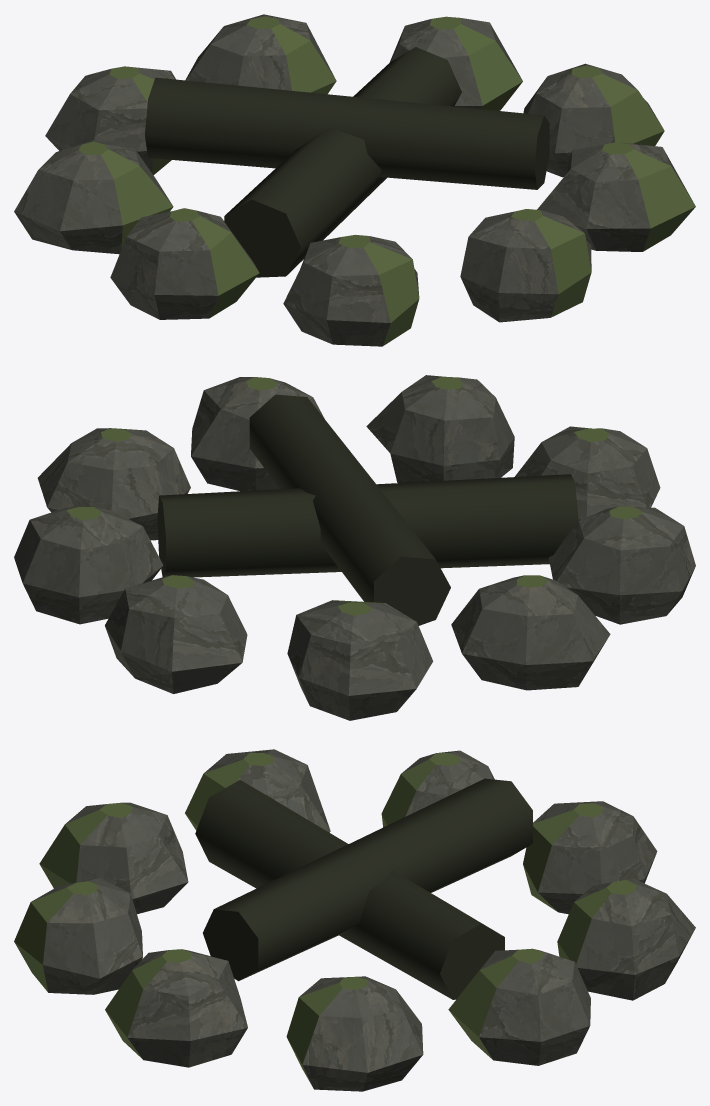
3 renders of one model, top to bottom at view 1: azimuth 30°, elevation 25°; view 2: azimuth 150°, elevation 25°; view 3: azimuth 270°, elevation 25°, orthographic. The views are drawn at different scales.
Visible parts, largest first — view 1: woodland-abandoned-camp · evaluated preview mesh; view 2: woodland-abandoned-camp · evaluated preview mesh; view 3: woodland-abandoned-camp · evaluated preview mesh.
Part boxes in pixels (bbox=[...]): woodland-abandoned-camp · evaluated preview mesh: bbox=[14, 14, 695, 346]; woodland-abandoned-camp · evaluated preview mesh: bbox=[14, 375, 695, 720]; woodland-abandoned-camp · evaluated preview mesh: bbox=[14, 749, 695, 1091].
Size of the model in its own units: 2.29 by 0.404 by 2.25.
Materials: 3 (1 with a texture image).
